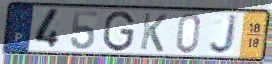0: (175, 12, 203, 55)
4: (32, 7, 64, 52)
5: (70, 9, 100, 51)
G: (102, 10, 137, 53)
J: (208, 13, 239, 56)
K: (138, 12, 169, 54)
